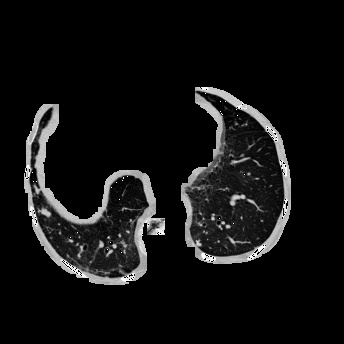PN: (41, 208, 49, 216)
